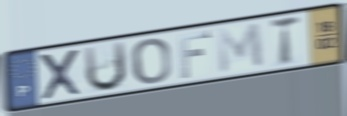F: (177, 29, 213, 80)
M: (215, 20, 267, 76)
O: (129, 36, 173, 86)
T: (268, 13, 303, 68)
U: (82, 38, 129, 94)
X: (37, 47, 85, 103)
